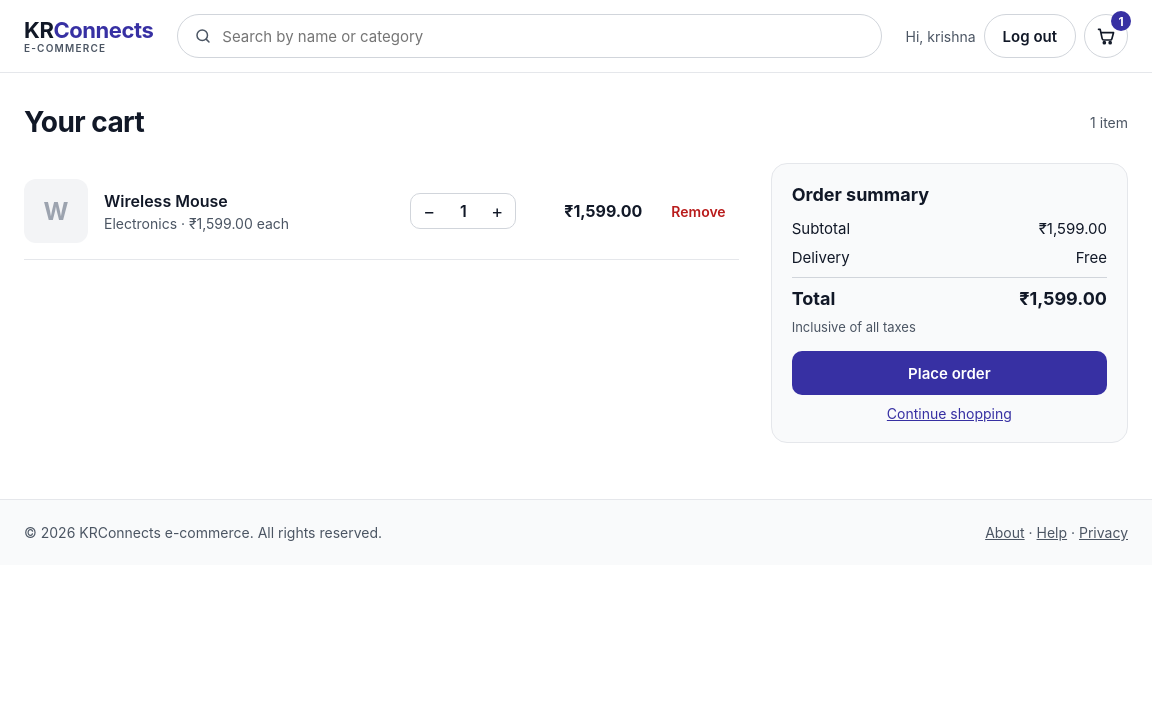
Test: CartPage › logged-in user places a (demo) order and the cart is emptied
Click the button "Place order": (949, 373) [792,351,1107,395]
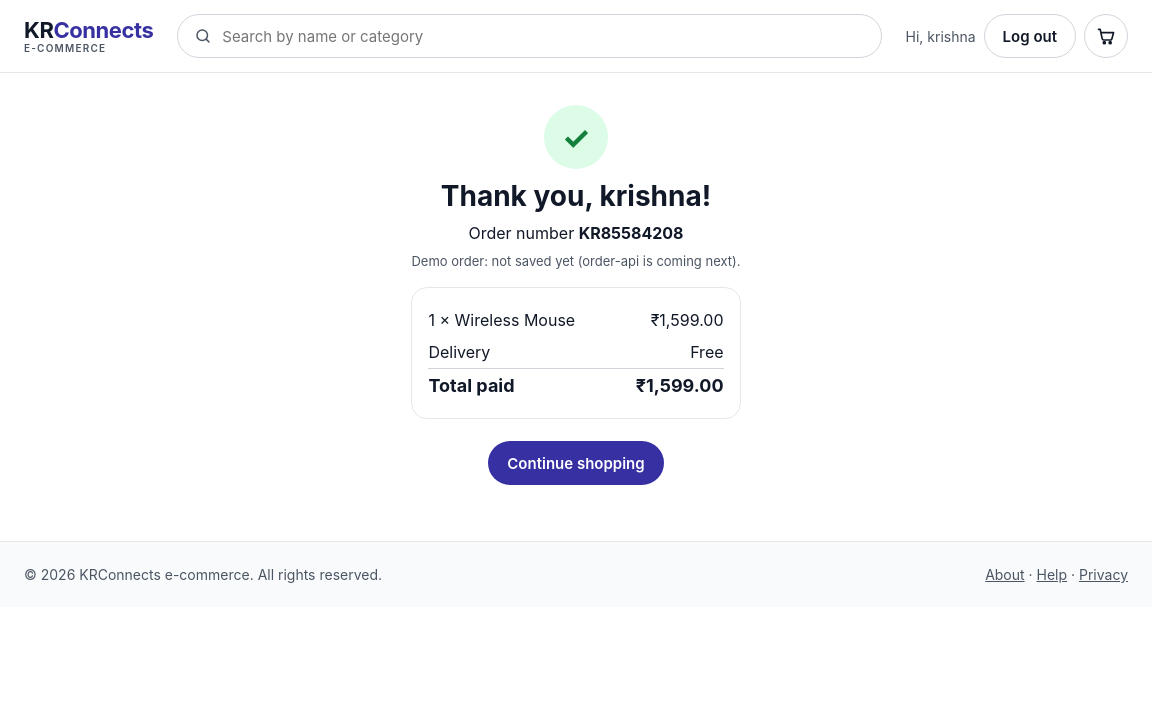
Check: the heading "Thank you, krishna!" is shown, box [441,179,711,213]
Check: the text "Order number KR85584208" is shown, box [468,223,684,243]
Check: the link named "Cart, 0 items" is shown, box [1084,14,1128,58]
